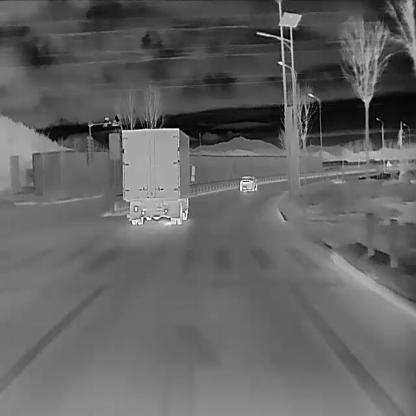car: (120, 126, 195, 223), (239, 174, 258, 192)
